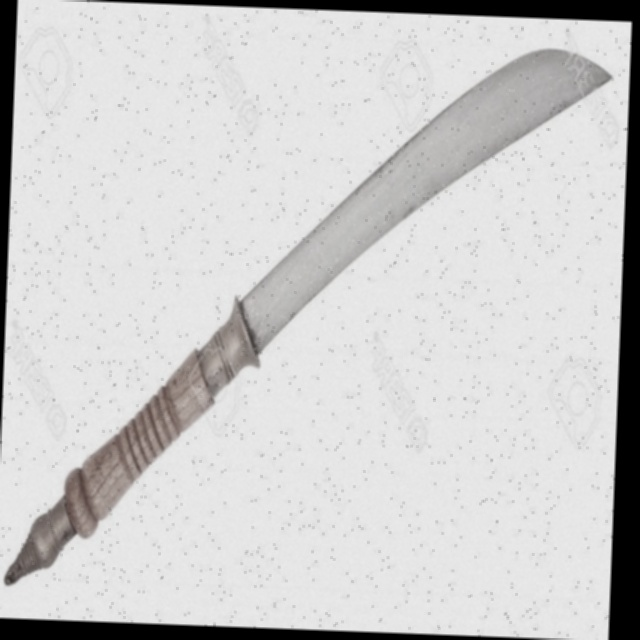Sharp-Object: (0, 24, 614, 624)
